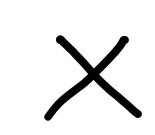mult: (45, 35, 142, 121)
